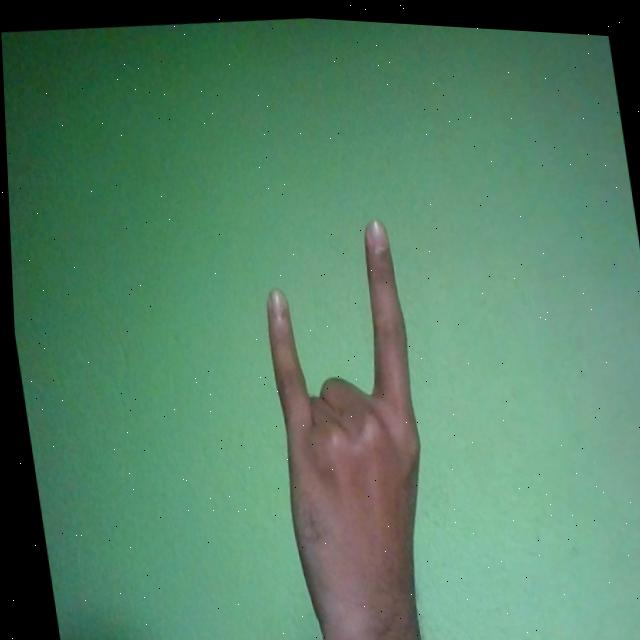Rock On: (245, 206, 448, 640)
